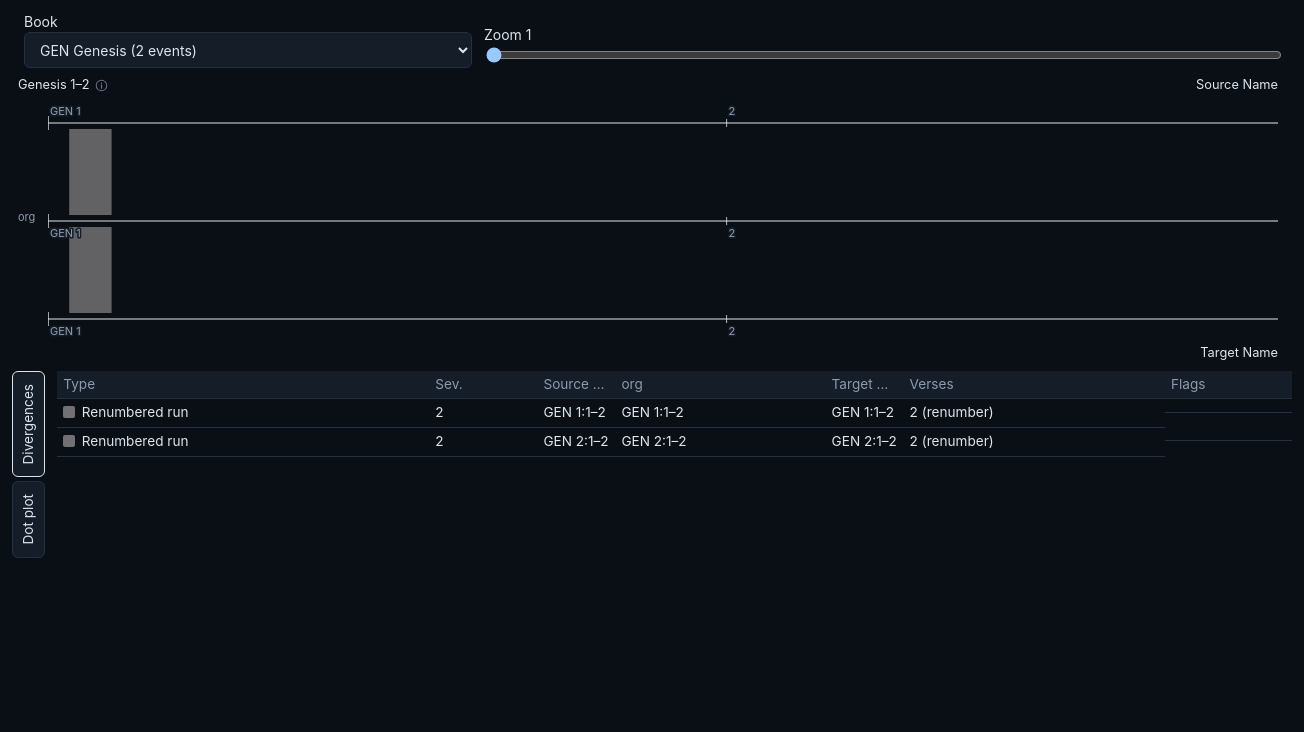
Scenario: DetailView selection › opens on the divergence table and switches to the dot plot
The width and height of the screenshot is (1304, 732).
expect the row "Renumbered run 2 GEN 1:1–2 GEN 1:1–2 GEN 1:1–2 2 (renumber)" is shown: met, box [57,399,1292,428]
Click the tab "Dot plot" at (28, 519), box [12,481,45,558]
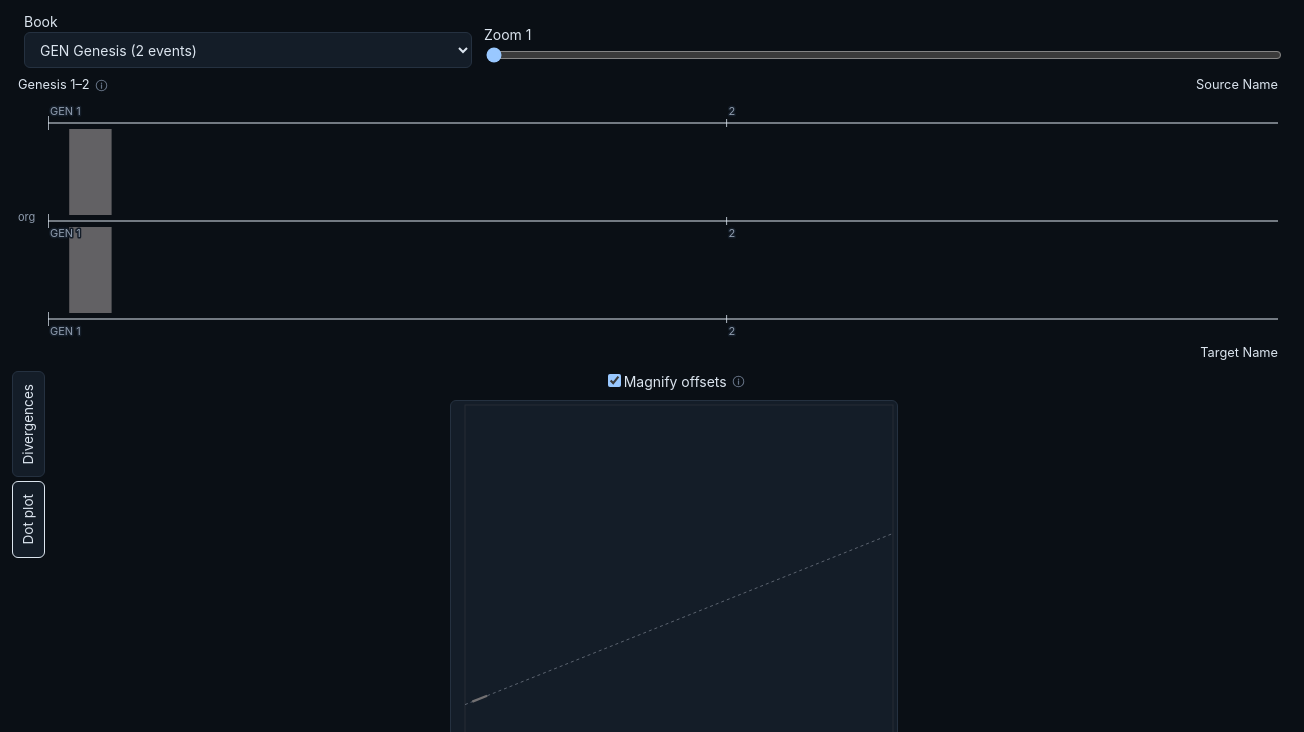
expect the checkbox labelled "Magnify offsets" is shown: met, box [608,374,621,387]
expect the table with class "dv-table" is gone: met
